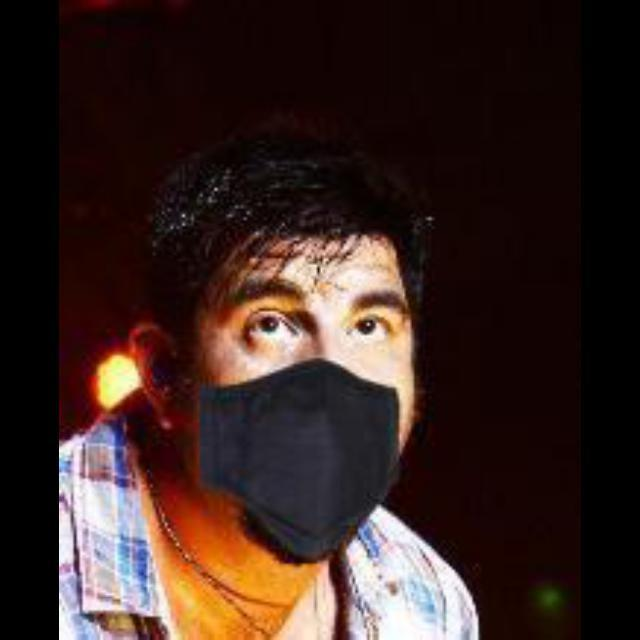suspicion: (114, 79, 454, 572)
